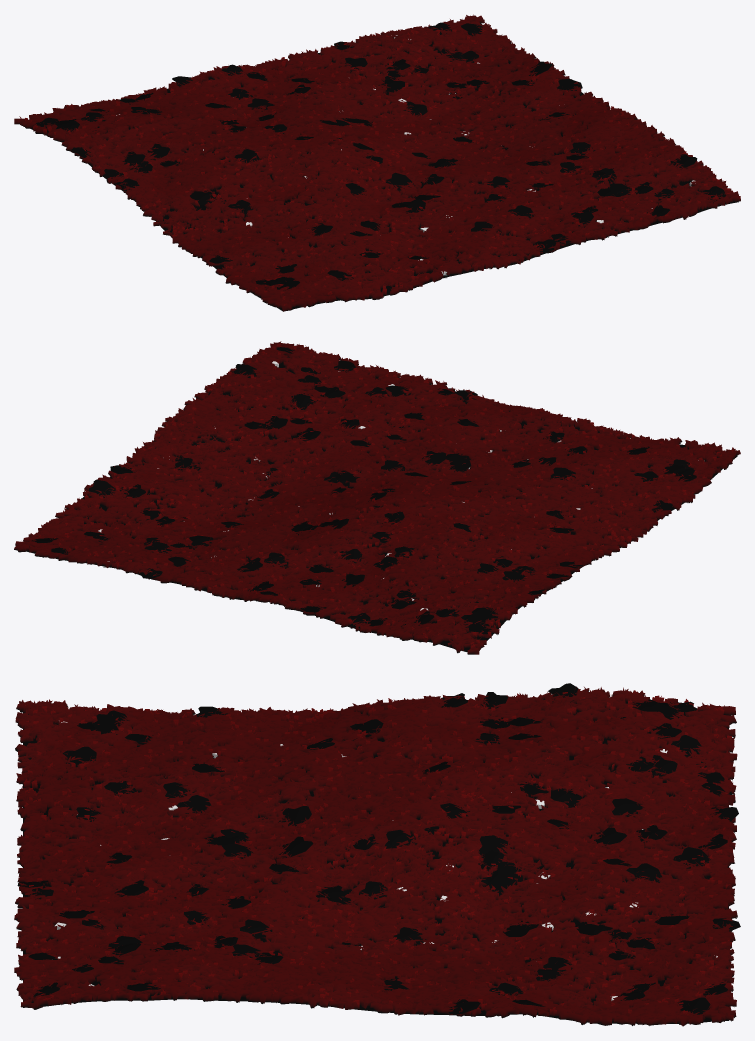
File: msh_ground_test_2.fbx
3 views of the same model, one above another, from view 1: azimuth 30°, elevation 25°; view 2: azimuth 150°, elevation 25°; view 3: azimuth 270°, elevation 25° (orthographic). The views are drawn at different scales.
Visible parts, largest first — view 1: msh_ground_test_2.002; view 2: msh_ground_test_2.002; view 3: msh_ground_test_2.002.
Boxes of the visible parts, x1,y1,x2,y2 form: msh_ground_test_2.002: (14, 14, 740, 311); msh_ground_test_2.002: (14, 341, 740, 654); msh_ground_test_2.002: (14, 683, 740, 1026).
Bounding box in the file's own units: 1625 × 1623 × 124.
